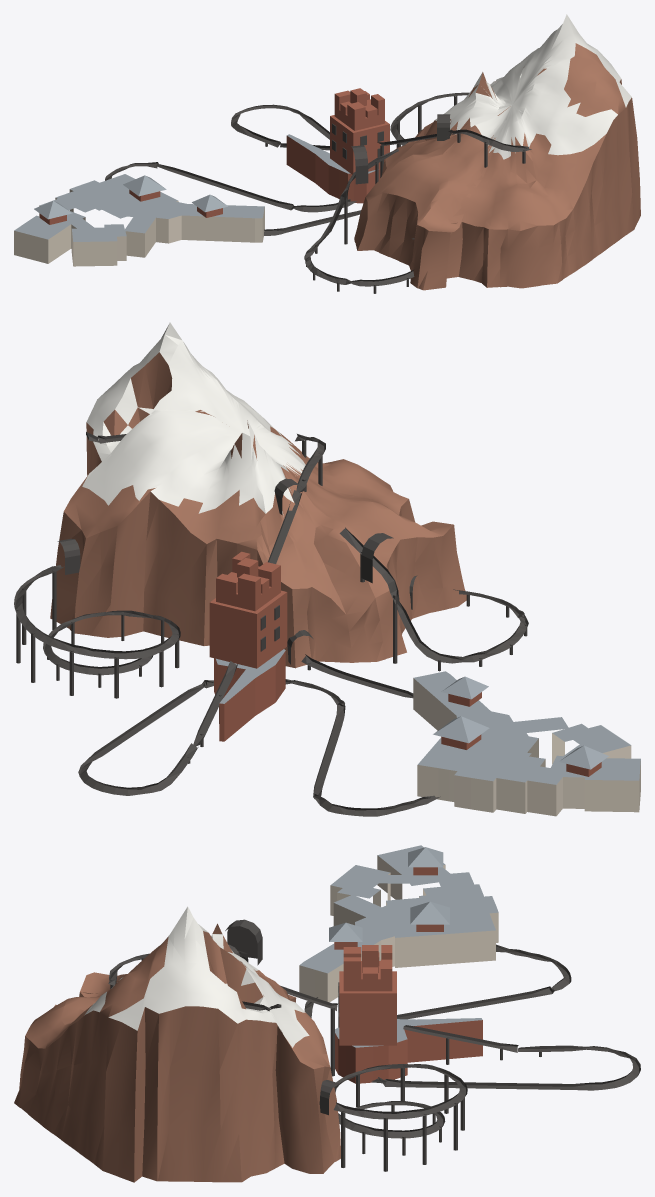
3 renders of one model, top to bottom at view 1: azimuth 30°, elevation 25°; view 2: azimuth 150°, elevation 25°; view 3: azimuth 270°, elevation 25°, orthographic. The views are drawn at different scales.
Visible parts, largest first — view 1: expedition-everest-walt-disney-world; view 2: expedition-everest-walt-disney-world; view 3: expedition-everest-walt-disney-world.
Part boxes in pixels (bbox=[...]): expedition-everest-walt-disney-world: bbox=[14, 14, 640, 293]; expedition-everest-walt-disney-world: bbox=[14, 322, 640, 816]; expedition-everest-walt-disney-world: bbox=[14, 845, 640, 1182].
Bounding box in the file's own units: 164 × 61 × 142.
